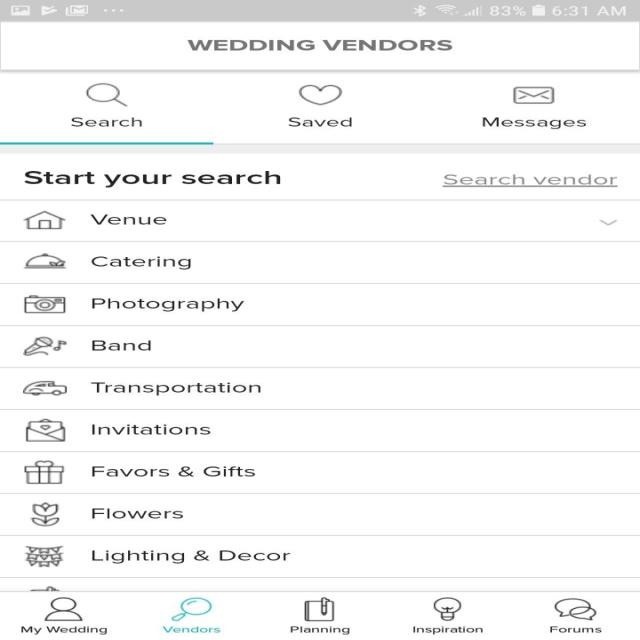Icon: (170, 597, 212, 621), (85, 83, 128, 106), (24, 460, 65, 484), (552, 598, 596, 620), (298, 84, 342, 106), (26, 418, 66, 441), (44, 597, 82, 621), (23, 210, 66, 230), (23, 294, 66, 313), (303, 597, 334, 621), (511, 87, 554, 104), (596, 220, 617, 225)
Image: (23, 336, 68, 356), (24, 545, 64, 567), (30, 501, 60, 526), (433, 596, 461, 620), (23, 253, 66, 268), (22, 381, 67, 395)
Text: (24, 170, 281, 188), (186, 40, 452, 51), (92, 550, 290, 564), (442, 173, 617, 187), (90, 382, 260, 395), (92, 298, 245, 312), (92, 466, 256, 476), (90, 256, 192, 270), (482, 117, 586, 130), (91, 424, 210, 434), (92, 508, 184, 518), (88, 214, 166, 225), (70, 117, 142, 127), (20, 626, 106, 634), (92, 340, 152, 351), (288, 117, 352, 127), (412, 626, 482, 634), (290, 626, 350, 634), (162, 625, 220, 633), (548, 626, 601, 633)
